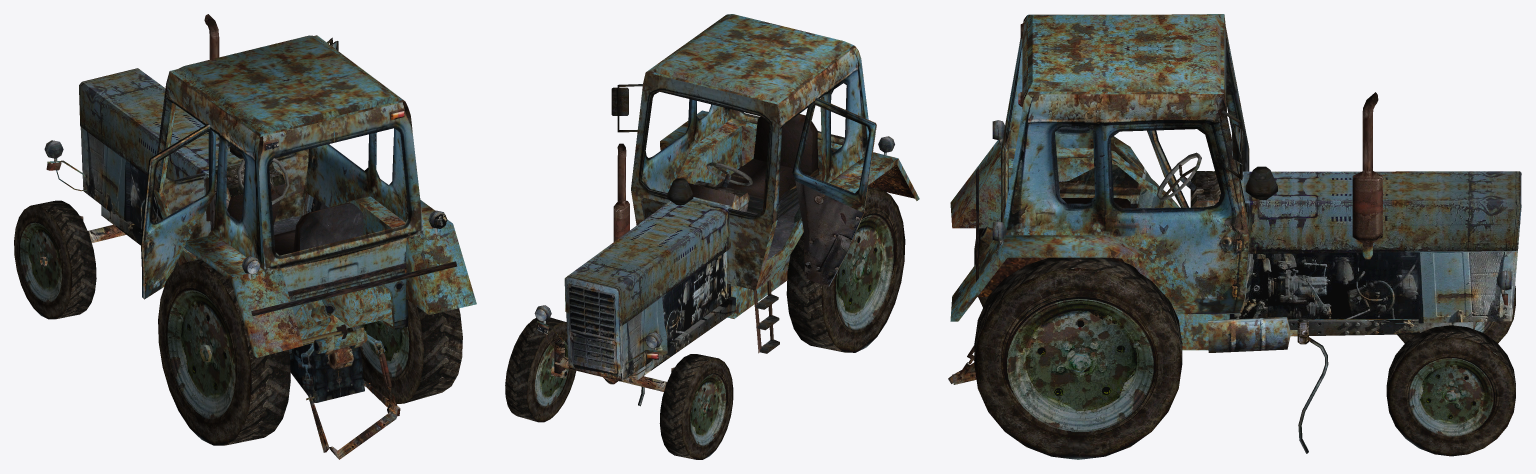
File: tractor_mtz_01_lod1.fbx
The picture shows the model from 3 angles, left to right: view 1: azimuth 30°, elevation 25°; view 2: azimuth 150°, elevation 25°; view 3: azimuth 270°, elevation 25°; orthographic projection. The views are drawn at different scales.
Parts seen in each view (by area): view 1: 1; view 2: 1; view 3: 1.
Part boxes in pixels (x1,y1,x2,y2): 1: (14, 14, 476, 459); 1: (505, 14, 919, 459); 1: (948, 14, 1521, 459).
Bounding box in the file's own units: 1.68 × 2.19 × 2.99.
